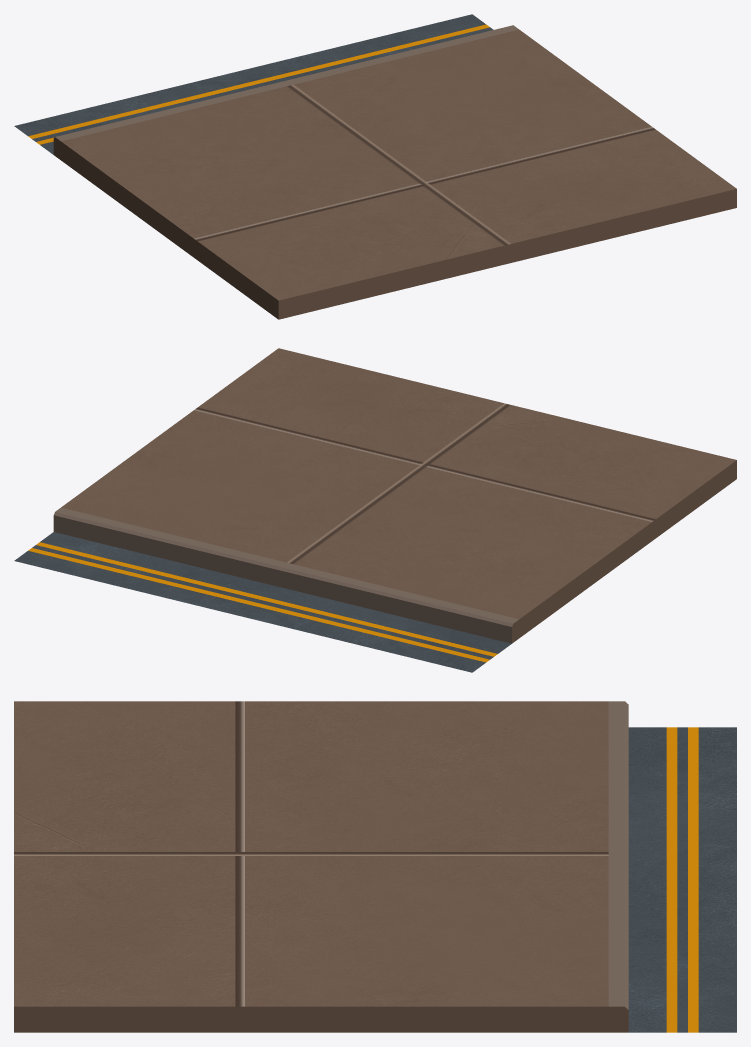
File: Footwalk_02.fbx
The picture shows the model from 3 angles, top to bottom: view 1: azimuth 30°, elevation 25°; view 2: azimuth 150°, elevation 25°; view 3: azimuth 270°, elevation 25°; orthographic projection. The views are drawn at different scales.
Parts seen in each view (by area): view 1: Footwalk_02; view 2: Footwalk_02; view 3: Footwalk_02.
Boxes of the visible parts, left/top/right/bottom form: Footwalk_02: left=14, top=14, right=736, bottom=319; Footwalk_02: left=14, top=348, right=736, bottom=672; Footwalk_02: left=14, top=701, right=736, bottom=1032.
Bounding box in the file's own units: 400 × 15.92 × 400.
